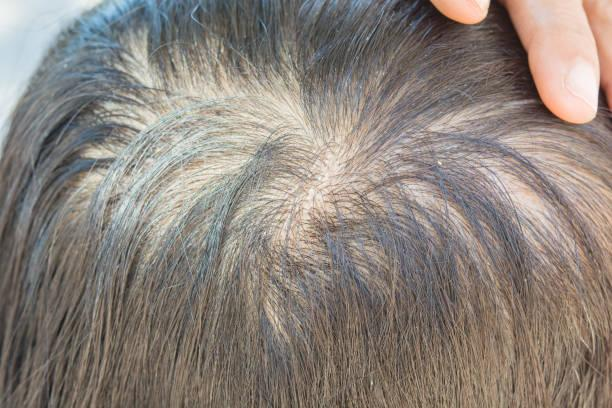dandruff: (357, 28, 382, 54), (429, 155, 449, 175), (56, 57, 72, 75)
